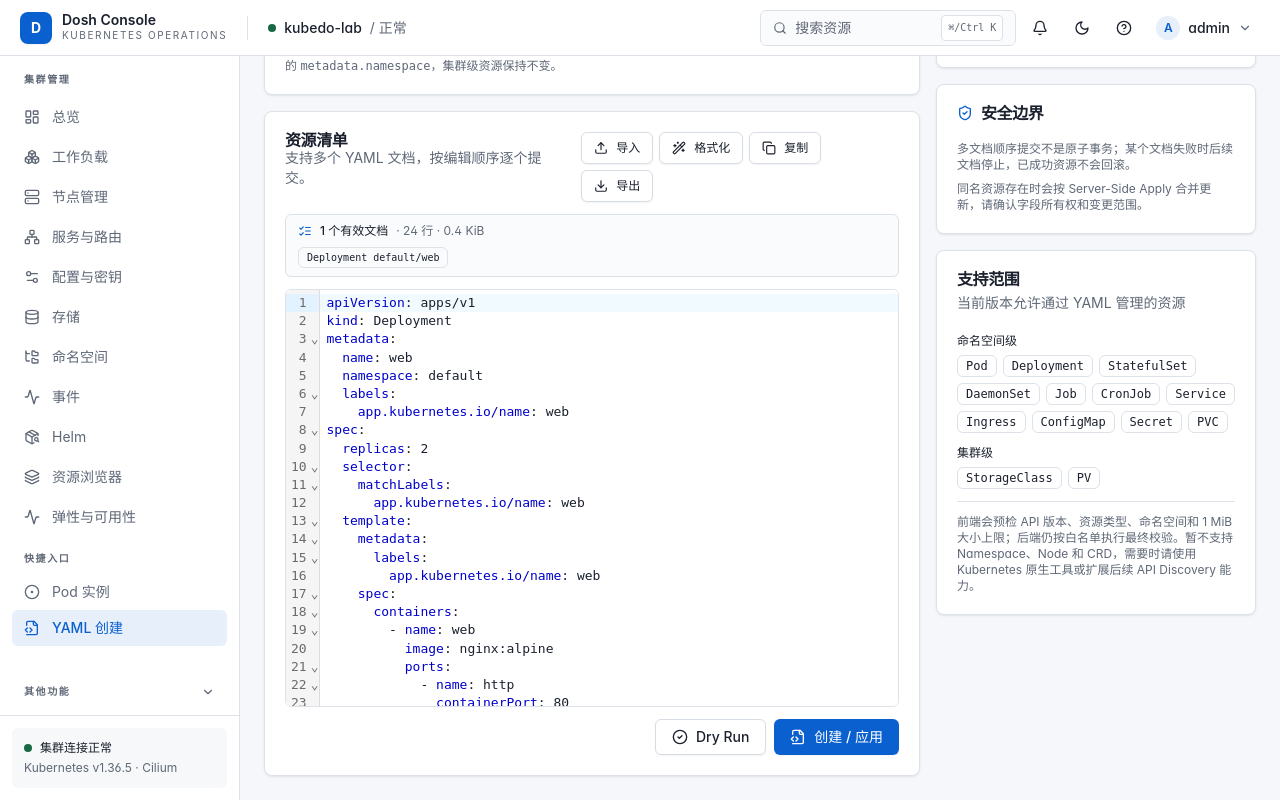
Scenario: dosh application › dry-runs and applies a YAML resource from the create page
(page scrolled)
Click the button "Dry Run": point(711, 737) [655, 719, 766, 755]
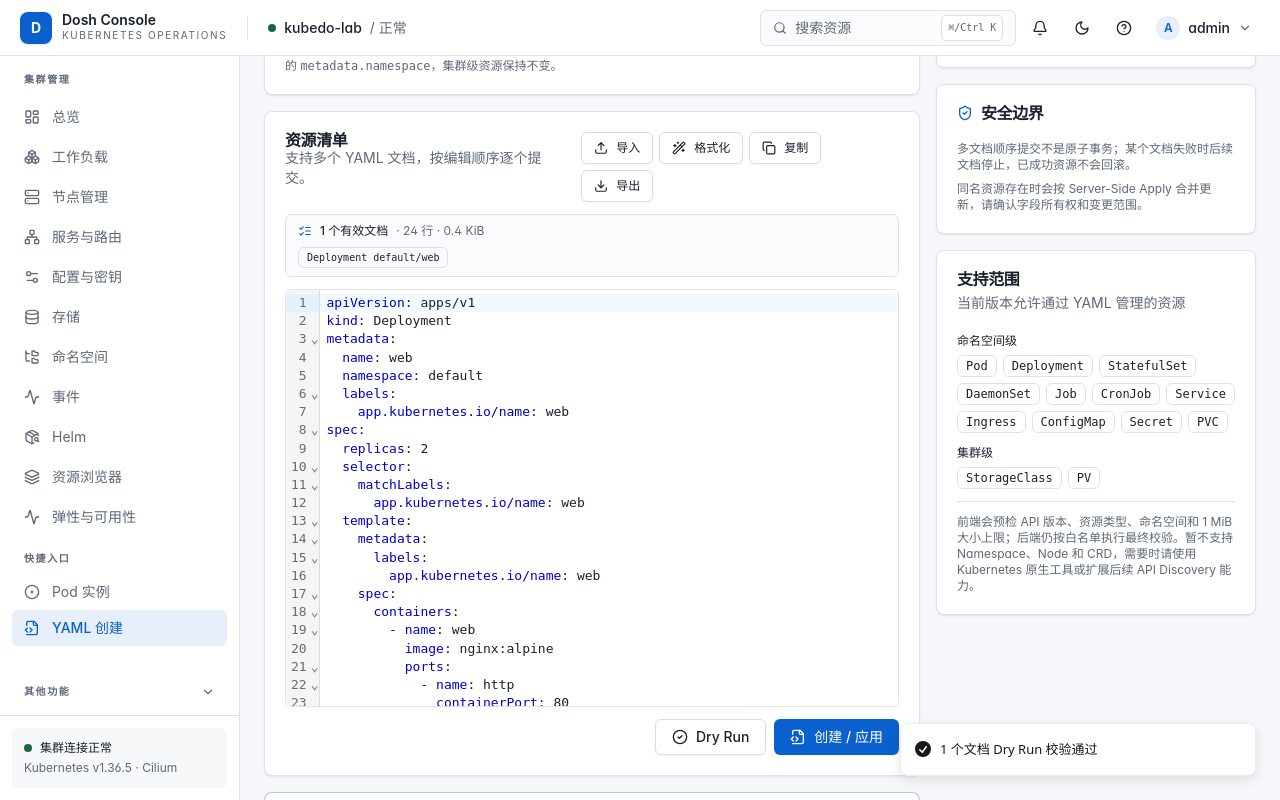
Click the button "创建 / 应用": point(837, 737) [774, 719, 899, 755]
(page scrolled)
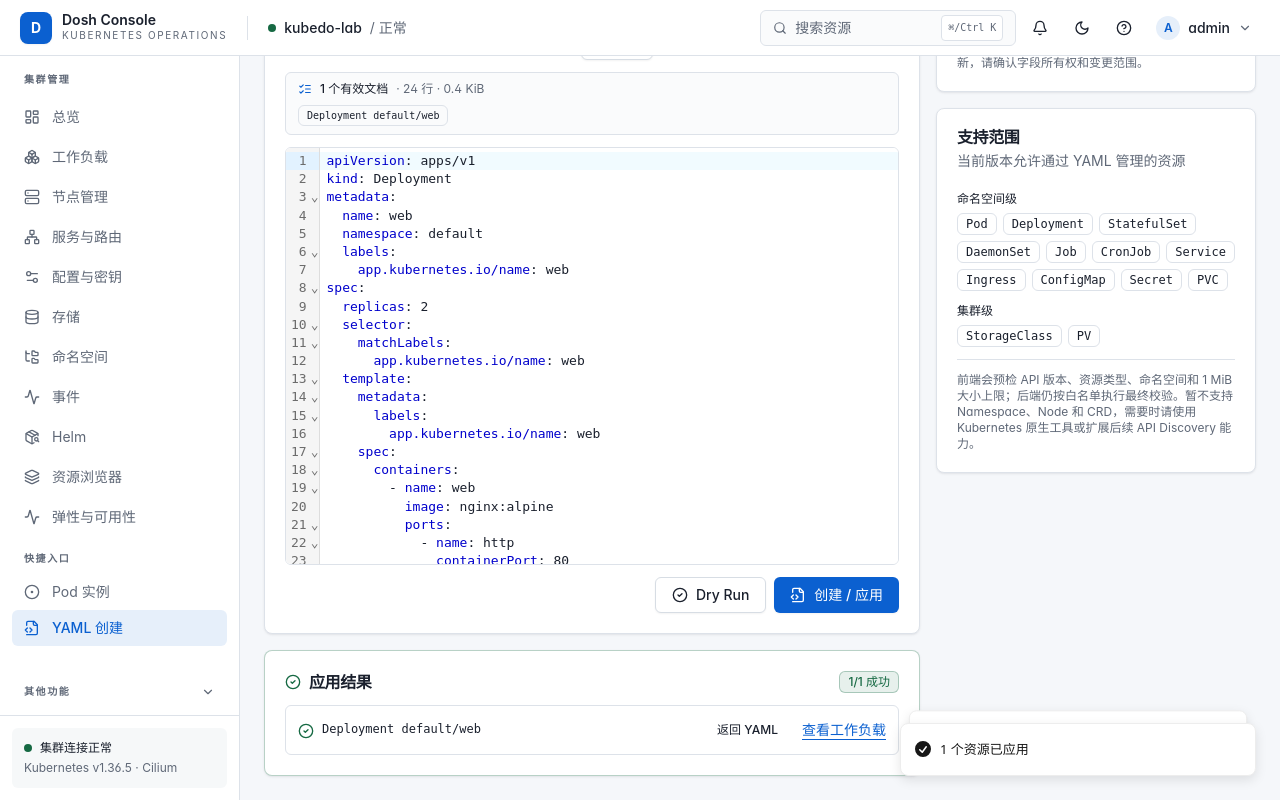
Result: the message named "YAML 应用结果" is shown at [264, 650, 920, 776]
